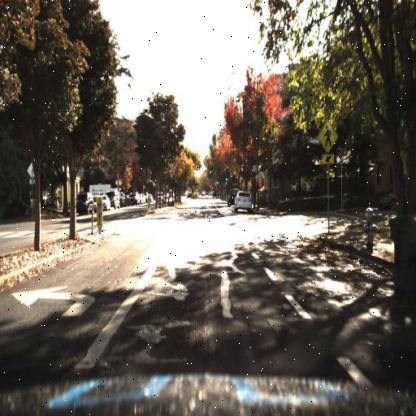car: (233, 188, 253, 212), (72, 193, 92, 214), (111, 189, 121, 210), (101, 194, 112, 210), (228, 190, 234, 206)
trafficLight-Green: (207, 168, 214, 184), (223, 169, 230, 184), (223, 175, 231, 187), (214, 173, 219, 189), (215, 178, 220, 186)
